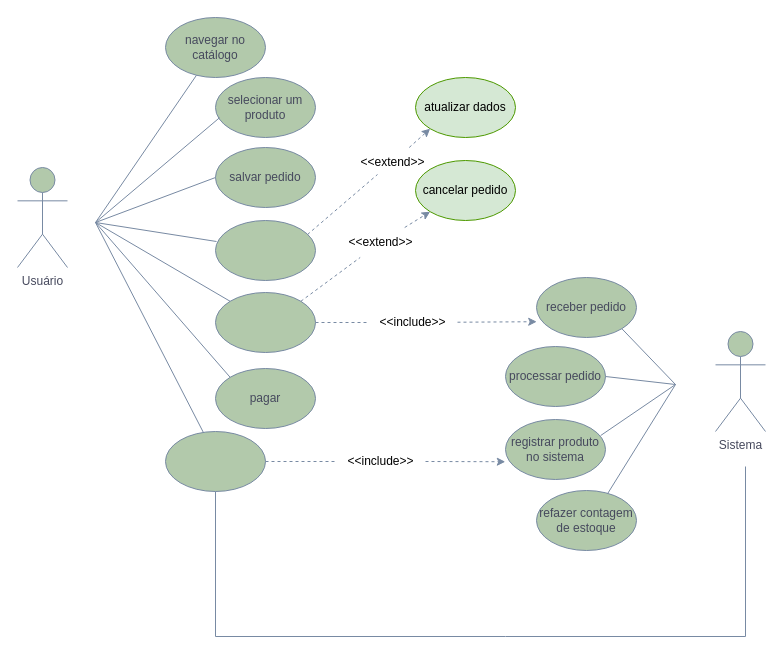
This 783x655 diagram has some shape labels left out. Each missing label, with the centre of its shape:
"confirmar pedido do produto" belongs at [265,322].
"finalizar pedido" belongs at [215,461].
"inserir dados de pagamento" belongs at [265,250].
